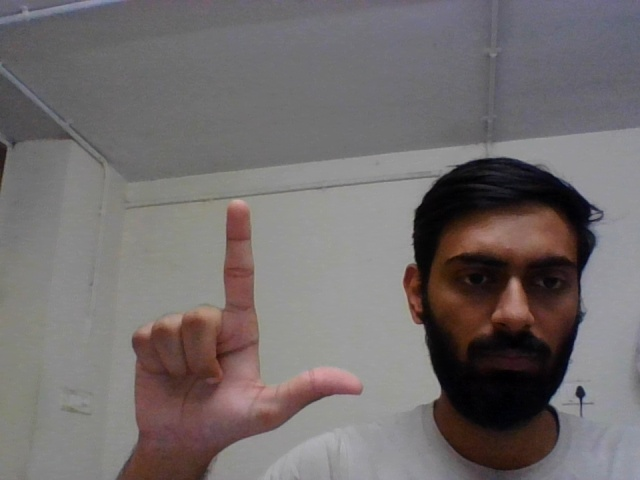L: (125, 192, 369, 458)
